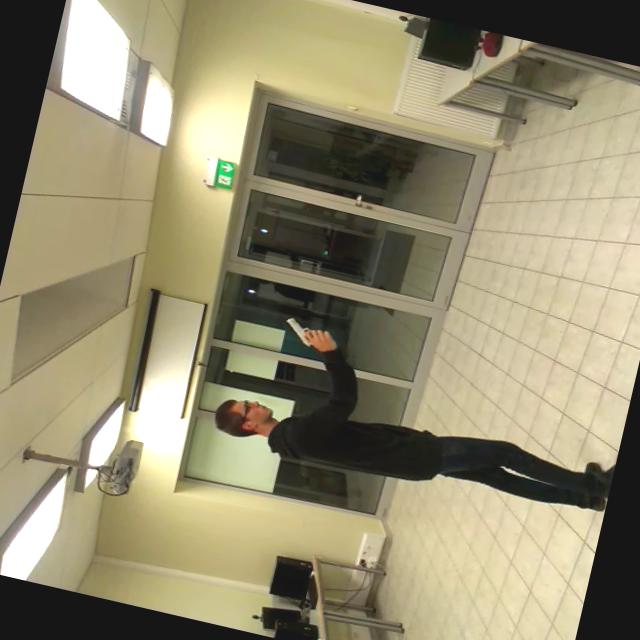handgun: (280, 311, 336, 353)
